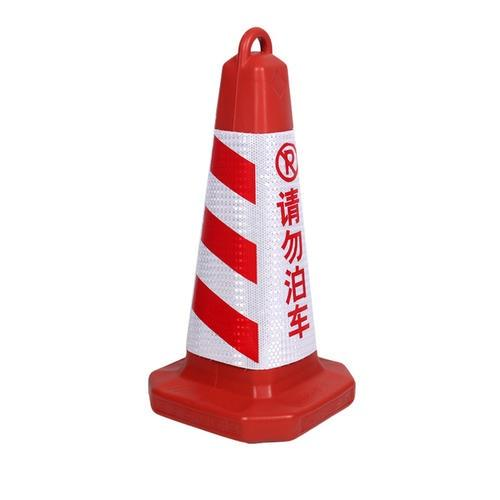cone_barrel: (142, 35, 355, 435)
